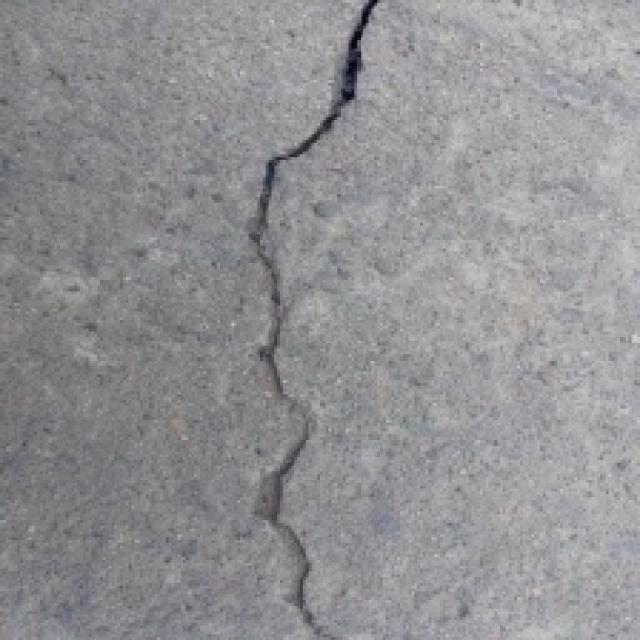crack: (230, 0, 380, 640)
